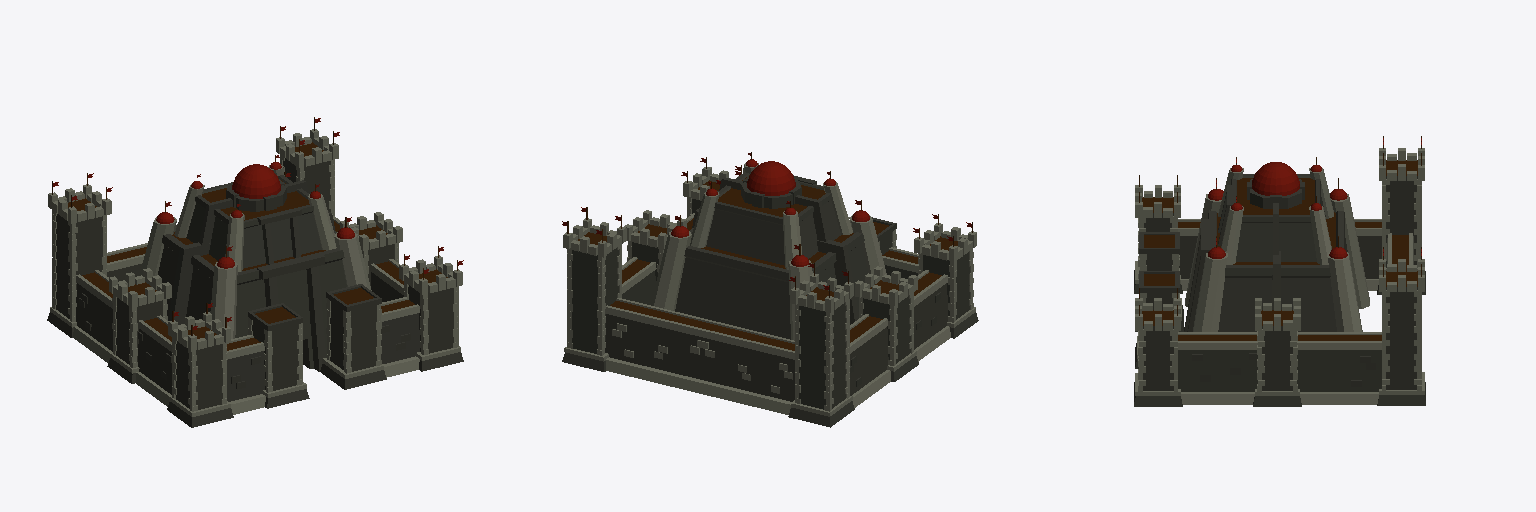
File: Wonder_SecondAge_Level3_Cube.obj
3 views of the same model, side by side, from view 1: azimuth 30°, elevation 25°; view 2: azimuth 150°, elevation 25°; view 3: azimuth 270°, elevation 25° (orthographic).
Parts seen in each view (by area): view 1: Wonder_SecondAge_Level3_Cube.009; view 2: Wonder_SecondAge_Level3_Cube.009; view 3: Wonder_SecondAge_Level3_Cube.009.
Boxes of the visible parts, <box> form: Wonder_SecondAge_Level3_Cube.009: <box>47,117,463,427</box>; Wonder_SecondAge_Level3_Cube.009: <box>562,152,978,427</box>; Wonder_SecondAge_Level3_Cube.009: <box>1134,136,1425,406</box>.
Size of the model in its own units: 2.13 by 1.35 by 1.96.